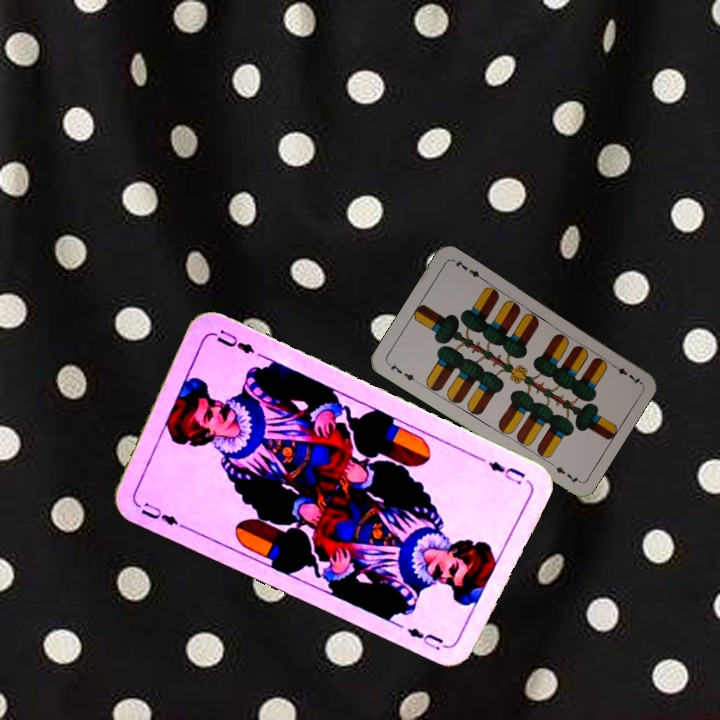E7: (606, 360, 643, 387), (384, 359, 420, 385)
EU: (132, 498, 188, 531), (484, 457, 528, 487)
